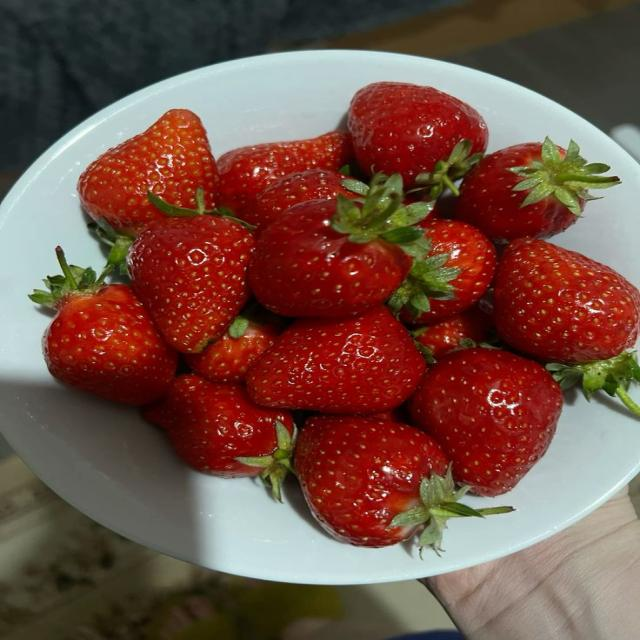strawberry: (295, 415, 486, 551), (249, 175, 429, 317), (494, 238, 639, 414), (30, 248, 177, 404), (409, 348, 562, 496), (247, 306, 425, 414), (127, 201, 254, 352), (144, 375, 294, 499), (494, 238, 639, 363), (78, 109, 218, 236), (454, 138, 619, 243), (348, 82, 487, 186), (218, 131, 353, 217), (390, 218, 496, 323), (242, 169, 355, 234), (184, 310, 283, 382), (412, 305, 493, 359)
